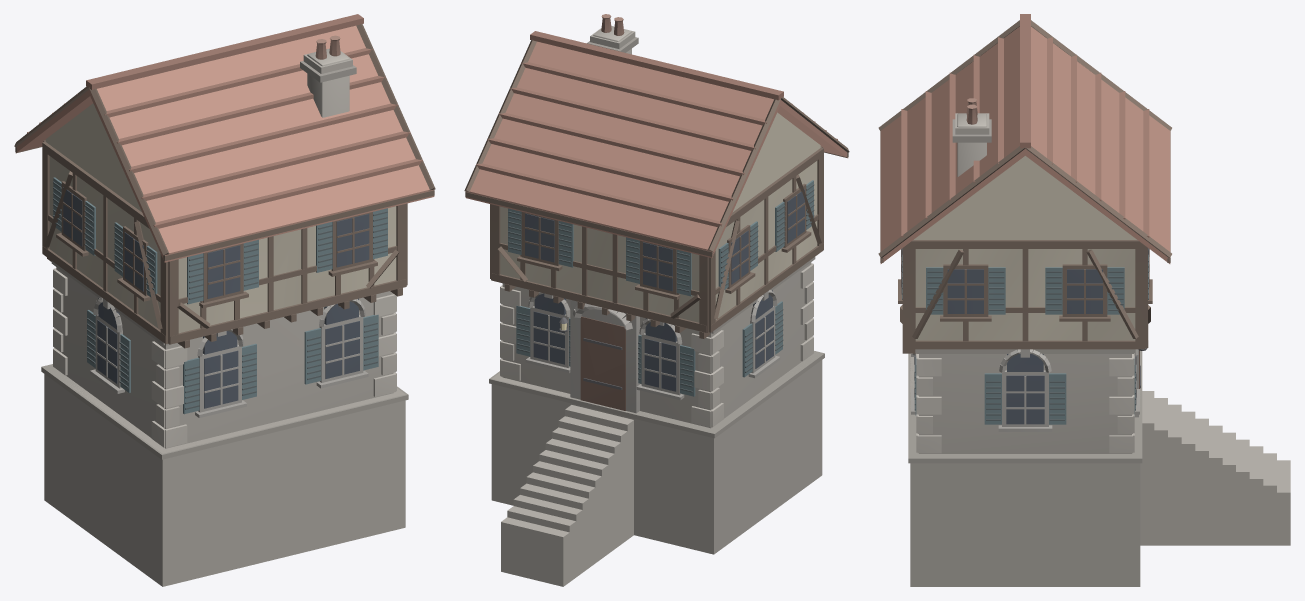
File: house_0_3.gltf
The picture shows the model from 3 angles, left to right: view 1: azimuth 30°, elevation 25°; view 2: azimuth 150°, elevation 25°; view 3: azimuth 270°, elevation 25°; orthographic projection. The views are drawn at different scales.
Visible parts, largest first — view 1: Body; view 2: Body; view 3: Body.
Boxes of the visible parts, <box> form: Body: <box>14,14,435,586</box>; Body: <box>464,14,849,586</box>; Body: <box>878,14,1290,586</box>.
Size of the model in its own units: 7.17 by 11.97 by 9.68.
